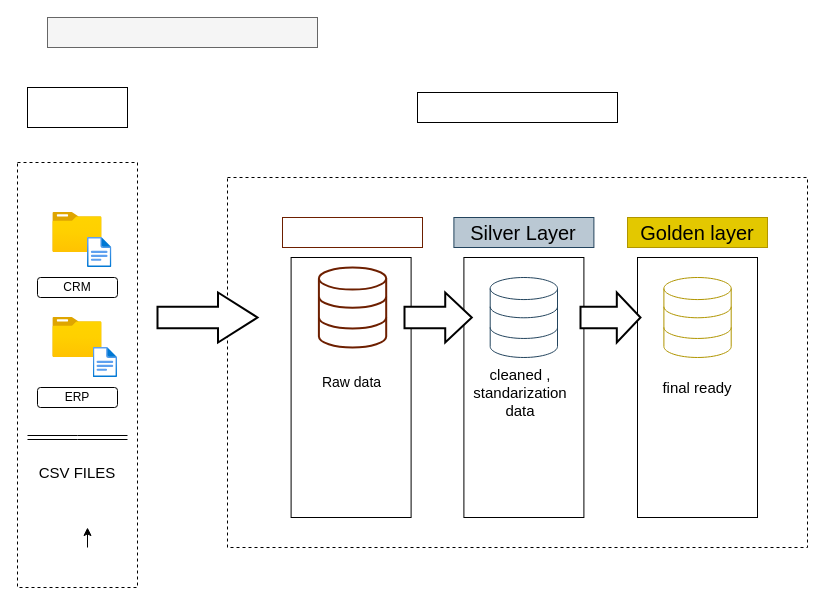
This 825x605 diagram has some shape labels left out. The centre of each missing label's shape, as x and y in pixels:
"data_architecture" goes at (182,32).
"Layers" goes at (517,107).
"sources" goes at (77,107).
